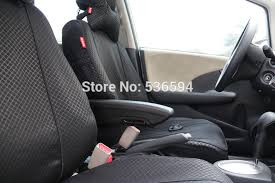seat: (6, 51, 160, 181)
